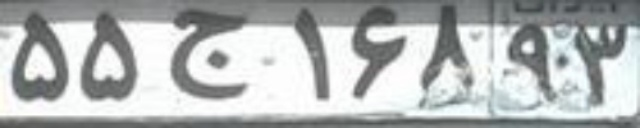1: (292, 8, 332, 99)
3: (572, 23, 627, 104)
5: (9, 13, 69, 101), (80, 13, 136, 102)
6: (352, 6, 406, 98)
8: (419, 5, 480, 94)
9: (506, 22, 555, 99)
jim: (169, 11, 247, 99)
